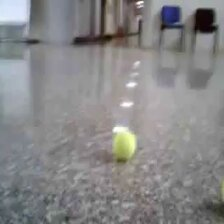tennis: (112, 129, 136, 158)
